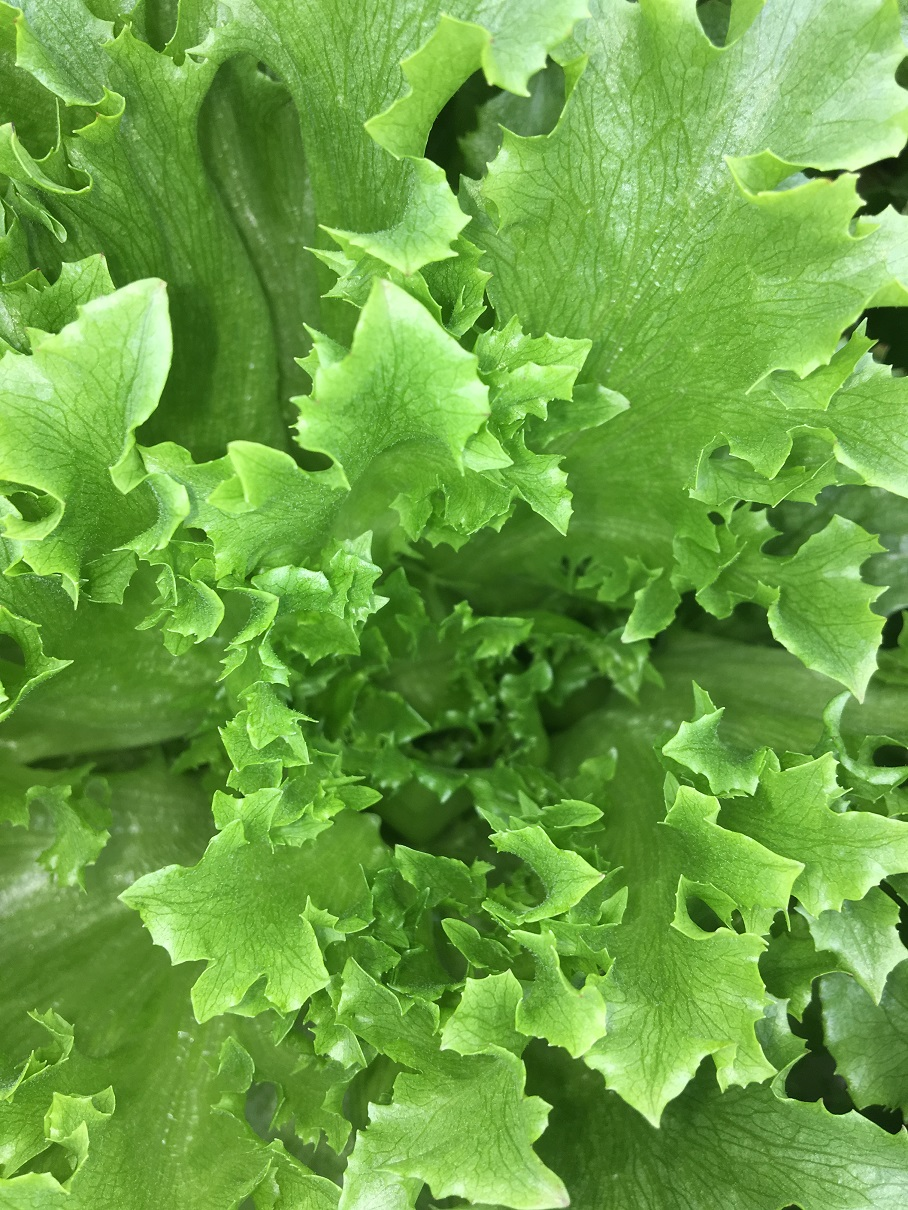tipburn: (387, 255, 419, 284), (475, 27, 507, 51), (87, 246, 117, 270), (27, 259, 54, 281)
